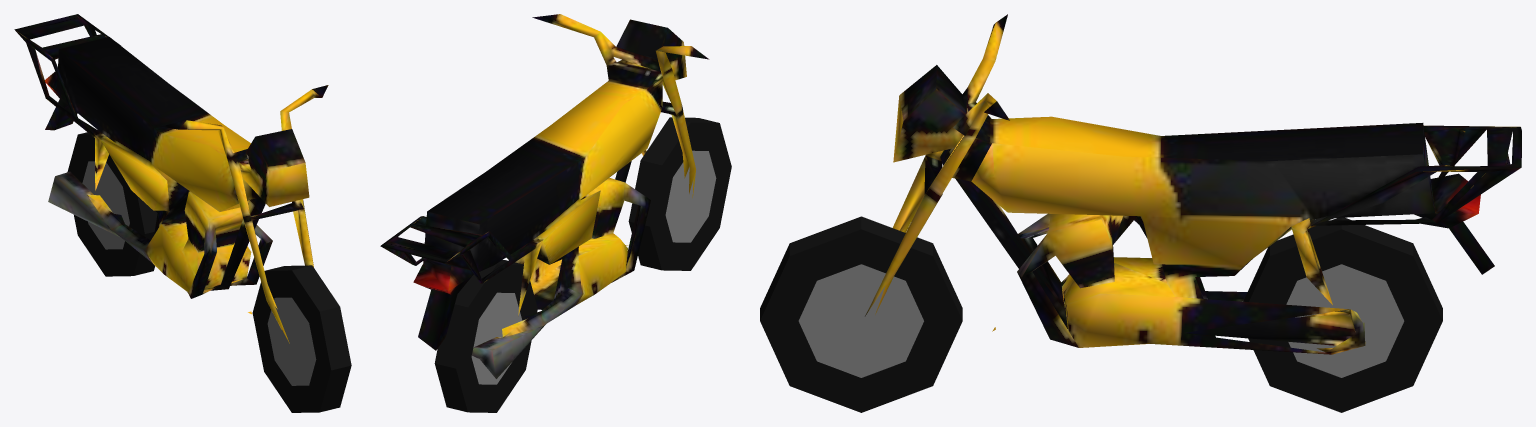
Rendered from okada-far.glb.
3 renders of one model, left to right at view 1: azimuth 30°, elevation 25°; view 2: azimuth 150°, elevation 25°; view 3: azimuth 270°, elevation 25°, orthographic. The views are drawn at different scales.
Visible parts, largest first — view 1: okada-far; view 2: okada-far; view 3: okada-far.
Boxes of the visible parts, x1=… form: okada-far: x1=14, y1=14, x2=351, y2=412; okada-far: x1=380, y1=14, x2=731, y2=412; okada-far: x1=760, y1=14, x2=1521, y2=412.
Size of the model in its own units: 0.8621 by 1.3 by 2.6.
1 material, 1 textured.
